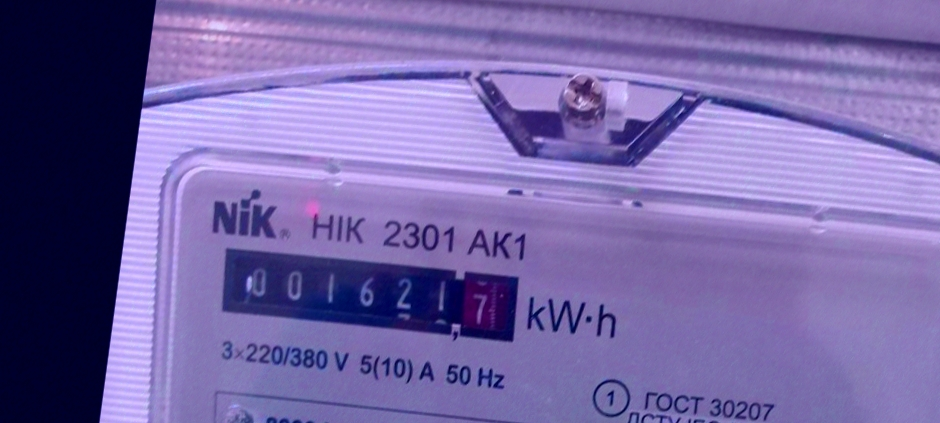0: (282, 264, 308, 303), (247, 261, 271, 298)
1: (433, 274, 451, 313), (322, 267, 340, 305)
2: (393, 273, 418, 311)
6: (356, 272, 379, 308)
7: (466, 288, 491, 326)
screen: (212, 233, 528, 354)
